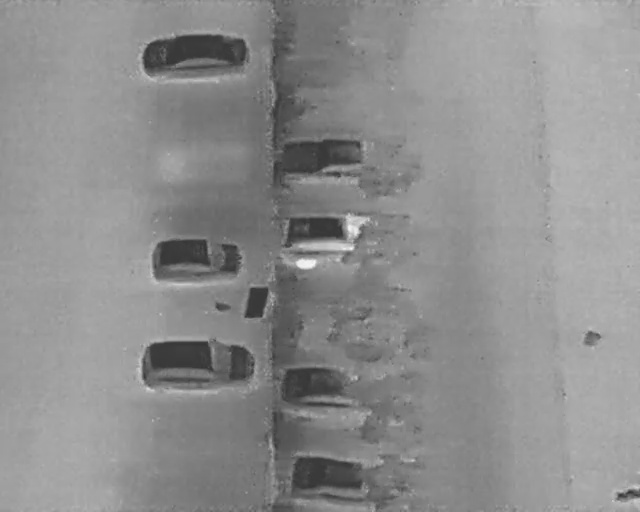Bicycle: (612, 486, 639, 503)
Car: (138, 335, 259, 393), (275, 207, 398, 259), (137, 31, 253, 79), (275, 134, 392, 181), (279, 360, 375, 415), (288, 449, 381, 504), (148, 234, 247, 285)
